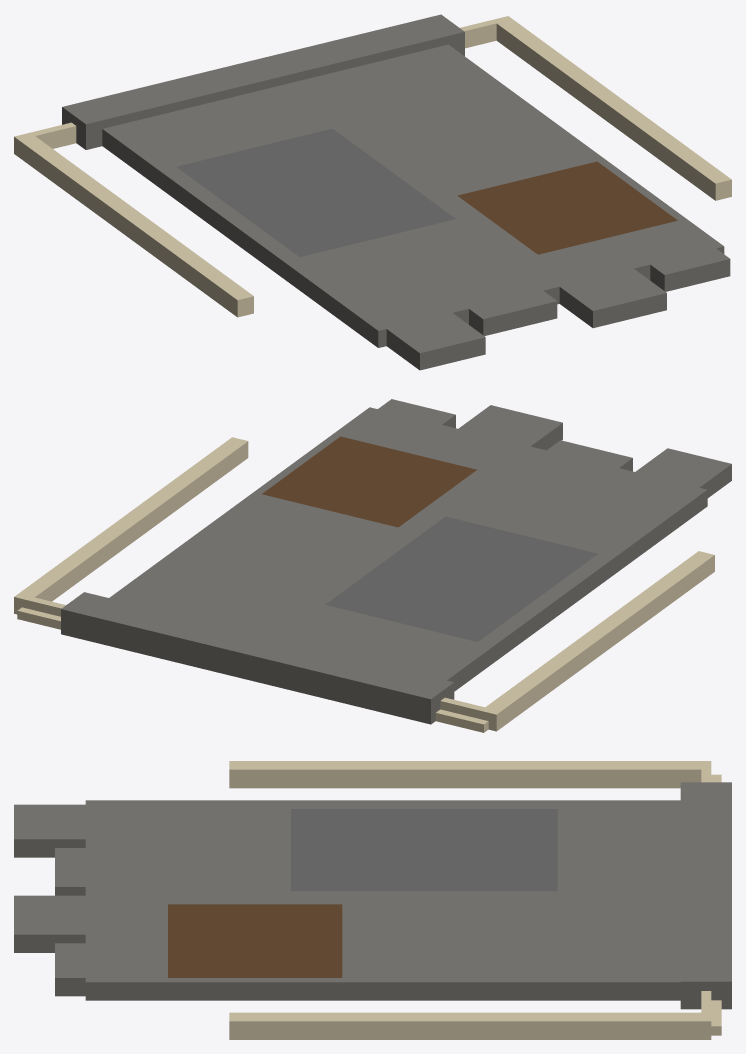
The model's file is loincloth_wool.glb.
3 views of the same model, one above another, from view 1: azimuth 30°, elevation 25°; view 2: azimuth 150°, elevation 25°; view 3: azimuth 270°, elevation 25° (orthographic). The views are drawn at different scales.
Visible parts, largest first — view 1: loincloth_wool:compound; view 2: loincloth_wool:compound; view 3: loincloth_wool:compound.
Boxes of the visible parts, left/top/right/bottom form: loincloth_wool:compound: left=14, top=14, right=731, bottom=370; loincloth_wool:compound: left=14, top=399, right=731, bottom=732; loincloth_wool:compound: left=14, top=761, right=731, bottom=1039.
Size of the model in its own units: 0.24 by 0.012 by 0.28.
